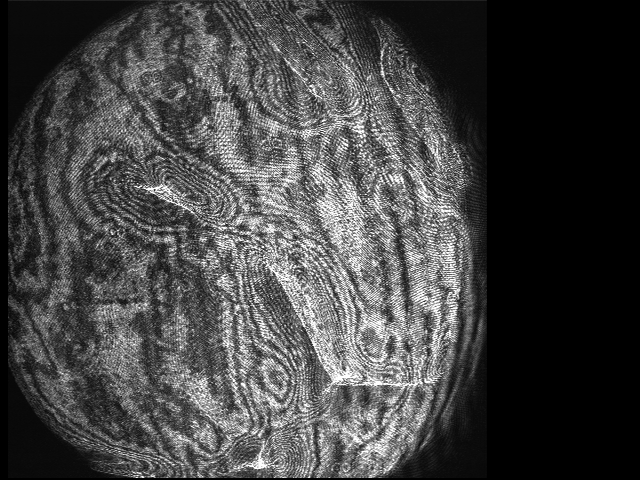plume: (89, 160, 239, 235)
